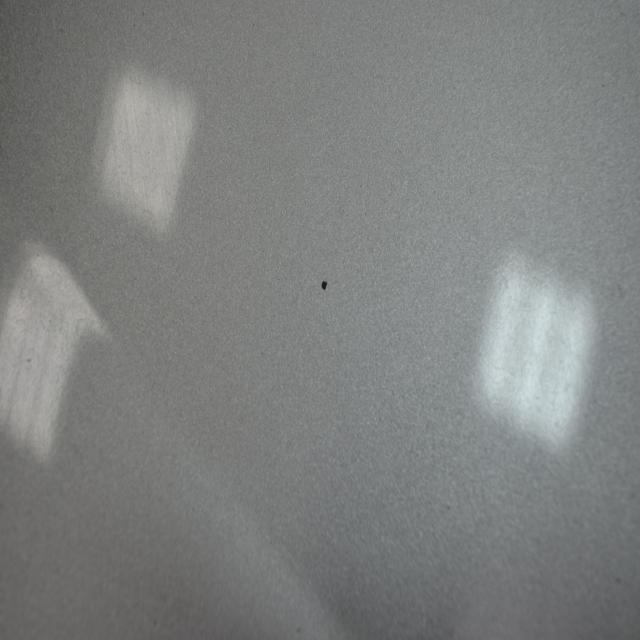dirt: (320, 275, 328, 293)
